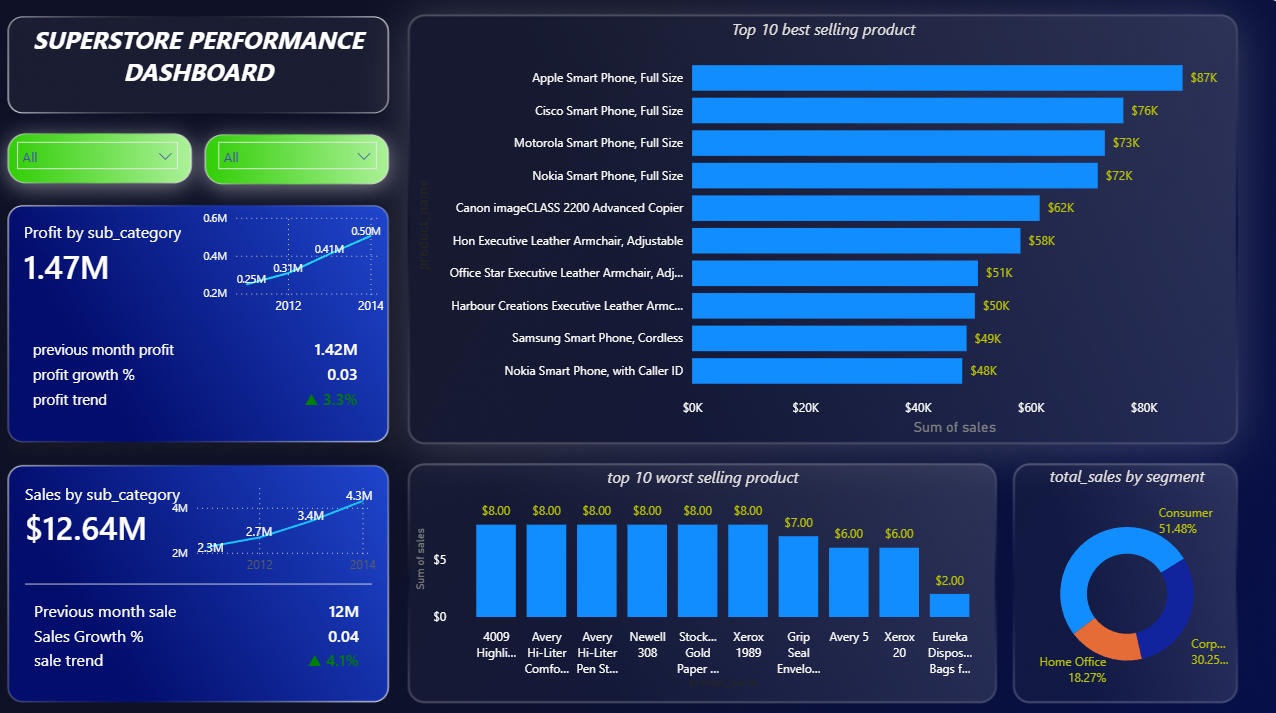

The dashboard page shown, as its layout file describes it:
{"tool":"powerbi","page":{"name":"SUPERSTORE PERFORMANCE DASHBOARD","canvas":[1280,720],"ordinal":0},"visuals":[{"type":"slicer","fields":{"Values":["SuperStoreOrders csv.sub_category"]},"box":[8.8,137.5,181.2,50],"z":0},{"type":"cardVisual","title":"Profit by sub_","fields":{"Data":["SuperStoreOrders csv.total_profit"]},"box":[8.8,210,381.3,237.6],"z":0,"group":"g1"},{"type":"cardVisual","fields":{"Data":["Sum(SuperStoreOrders csv.sales)"]},"box":[10,471.2,381.4,237],"z":0,"group":"g2"},{"type":"group","id":"g1","title":"Group 1","box":[8.8,210,380,237.5],"z":1000},{"type":"lineChart","fields":{"Category":["DateTable.Year"],"Y":["SuperStoreOrders csv.total_profit"]},"box":[199.5,210,190.7,119.8],"z":1000,"group":"g1"},{"type":"lineChart","fields":{"Category":["DateTable.Year"],"Y":["Measures_1.total_sales"]},"box":[169.3,477.7,214,111.5],"z":1000,"group":"g2"},{"type":"group","id":"g2","title":"Group 2","box":[10,471.2,381.2,237.5],"z":2000},{"type":"clusteredBarChart","title":"Top 10 best selling product","fields":{"Category":["SuperStoreOrders csv.product_name"],"Y":["Sum(SuperStoreOrders csv.sales)"]},"box":[412.5,23.8,826.2,422.5],"z":3000},{"type":"clusteredColumnChart","title":"top 10 worst selling product","fields":{"Category":["SuperStoreOrders csv.product_name"],"Y":["Sum(SuperStoreOrders csv.sales)"]},"box":[412.5,471.2,585,228.8],"z":4000},{"type":"donutChart","fields":{"Category":["SuperStoreOrders csv.segment"],"Y":["Measures_1.total_sales"]},"box":[1018.6,469.8,220.9,238.4],"z":5000},{"type":"slicer","fields":{"Values":["SuperStoreOrders csv.region"]},"box":[210,137.5,178.8,50],"z":6000},{"type":"textbox","box":[8.8,25,382.5,96.2],"z":7000}]}

Visuals, with their boxes in screenshot pixels (x1, y1, x2, y2), scaled from the page's 1280x720 canvas onto the 1276x713 screenshot:
slicer - SuperStoreOrders csv.sub_category: pyautogui.locateOnScreen(9, 136, 189, 186)
"Profit by sub_" cardVisual: pyautogui.locateOnScreen(9, 208, 389, 443)
cardVisual - Sum(SuperStoreOrders csv.sales): pyautogui.locateOnScreen(10, 467, 390, 701)
"Group 1" group: pyautogui.locateOnScreen(9, 208, 388, 443)
lineChart - DateTable.Year x SuperStoreOrders csv.total_profit: pyautogui.locateOnScreen(199, 208, 389, 327)
lineChart - DateTable.Year x Measures_1.total_sales: pyautogui.locateOnScreen(169, 473, 382, 583)
"Group 2" group: pyautogui.locateOnScreen(10, 467, 390, 702)
"Top 10 best selling product" clusteredBarChart: pyautogui.locateOnScreen(411, 24, 1235, 442)
"top 10 worst selling product" clusteredColumnChart: pyautogui.locateOnScreen(411, 467, 994, 693)
donutChart - SuperStoreOrders csv.segment x Measures_1.total_sales: pyautogui.locateOnScreen(1015, 465, 1236, 701)
slicer - SuperStoreOrders csv.region: pyautogui.locateOnScreen(209, 136, 388, 186)
textbox: pyautogui.locateOnScreen(9, 25, 390, 120)
